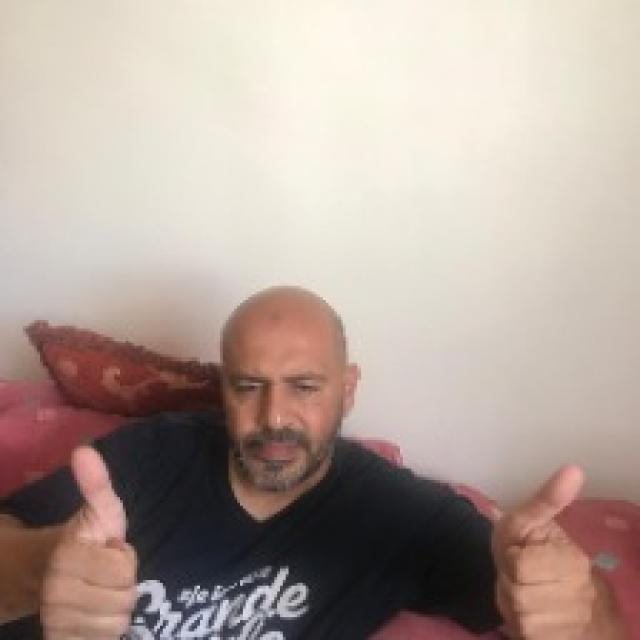fine: (483, 457, 602, 640), (36, 439, 144, 640)
